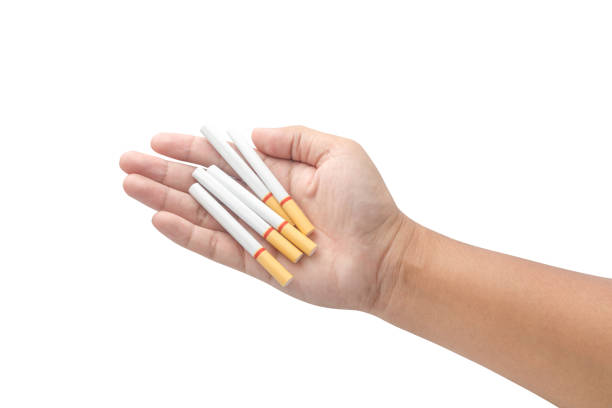cigarette: (187, 181, 294, 287), (192, 167, 305, 264), (205, 163, 320, 257), (224, 122, 318, 236), (199, 120, 295, 227)
